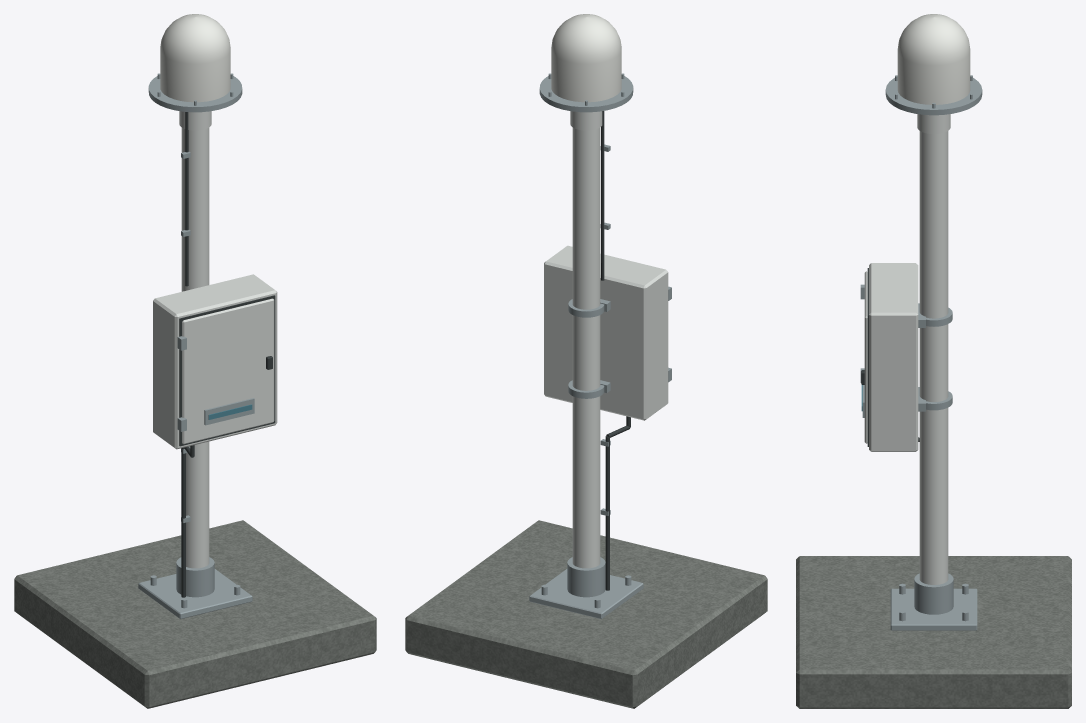
File: mine-lightning-locator.glb
3 views of the same model, side by side, from view 1: azimuth 30°, elevation 25°; view 2: azimuth 150°, elevation 25°; view 3: azimuth 270°, elevation 25° (orthographic). The views are drawn at different scales.
Visible parts, largest first — view 1: lightning-locator__Monitor_concrete, lightning-locator__Monitor_paint, lightning-locator__Monitor_steel, lightning-locator__Monitor_sensor, lightning-locator__Monitor_dark; view 2: lightning-locator__Monitor_concrete, lightning-locator__Monitor_paint, lightning-locator__Monitor_steel, lightning-locator__Monitor_sensor, lightning-locator__Monitor_dark; view 3: lightning-locator__Monitor_concrete, lightning-locator__Monitor_paint, lightning-locator__Monitor_steel, lightning-locator__Monitor_sensor.
Part boxes in pixels (left/top/right/bottom): lightning-locator__Monitor_concrete: left=14, top=520, right=376, bottom=708; lightning-locator__Monitor_paint: left=153, top=111, right=277, bottom=568; lightning-locator__Monitor_steel: left=138, top=73, right=254, bottom=618; lightning-locator__Monitor_sensor: left=160, top=14, right=230, bottom=102; lightning-locator__Monitor_dark: left=179, top=112, right=275, bottom=597; lightning-locator__Monitor_concrete: left=405, top=520, right=767, bottom=708; lightning-locator__Monitor_paint: left=544, top=111, right=668, bottom=568; lightning-locator__Monitor_steel: left=529, top=73, right=671, bottom=618; lightning-locator__Monitor_sensor: left=551, top=14, right=621, bottom=102; lightning-locator__Monitor_dark: left=601, top=111, right=630, bottom=590; lightning-locator__Monitor_concrete: left=796, top=556, right=1071, bottom=708; lightning-locator__Monitor_paint: left=864, top=114, right=950, bottom=584; lightning-locator__Monitor_steel: left=860, top=75, right=982, bottom=630; lightning-locator__Monitor_sensor: left=897, top=14, right=970, bottom=104.
Size of the model in its own units: 1.4 by 3.56 by 1.4.
Materials: 6 (1 with a texture image).
